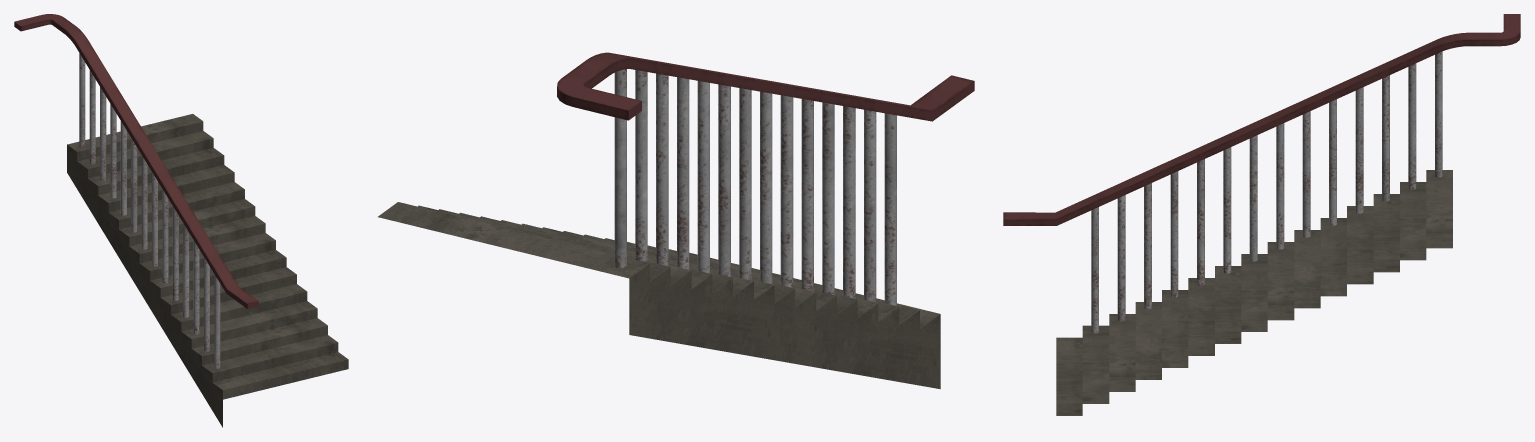
File: map_003_stair.fbx
The picture shows the model from 3 angles, left to right: view 1: azimuth 30°, elevation 25°; view 2: azimuth 150°, elevation 25°; view 3: azimuth 270°, elevation 25°; orthographic projection. The views are drawn at different scales.
Visible parts, largest first — view 1: stair; view 2: stair; view 3: stair.
Boxes of the visible parts, box(x1,y1,x2,y2) form: stair: box(14, 14, 348, 427); stair: box(378, 52, 974, 389); stair: box(1003, 14, 1520, 415).
Bounding box in the file's own units: 1956 × 1483 × 846.
